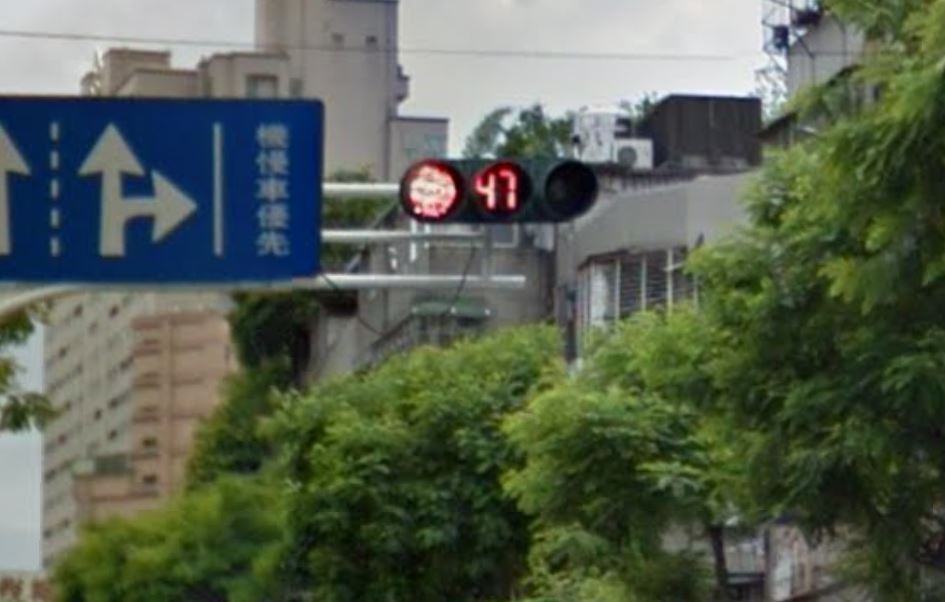Traffic_light_red: (396, 156, 599, 223)
